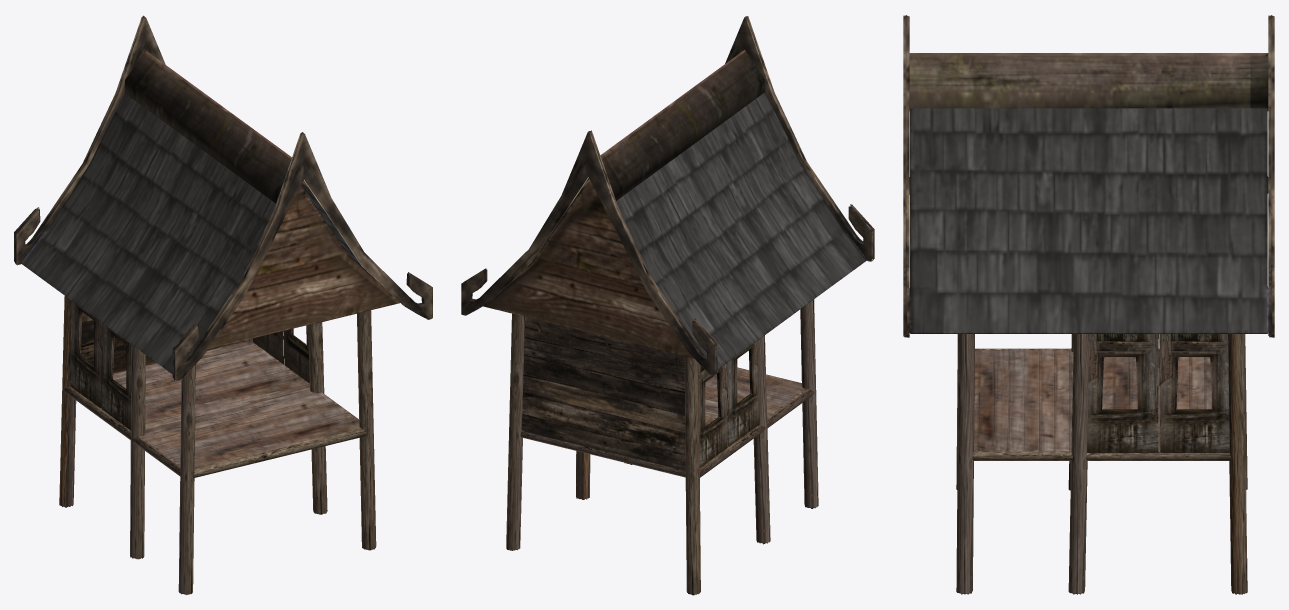
The model's file is court.fbx.
The picture shows the model from 3 angles, left to right: view 1: azimuth 30°, elevation 25°; view 2: azimuth 150°, elevation 25°; view 3: azimuth 270°, elevation 25°; orthographic projection. The views are drawn at different scales.
Parts seen in each view (by area): view 1: Plane.013, Cylinder.005, Cube.036, Cube.035, Cube.038, Cube.037, Cube.034, Plane.016, Cube.039, Cylinder.004, Cylinder.007, Plane.015; view 2: Plane.013, Plane.015, Cube.040, Cylinder.005, Cube.038, Cube.039, Plane.016, Cube.037, Cube.035, Cylinder.009, Cylinder.007; view 3: Plane.013, Cube.038, Cylinder.005, Plane.016, Cube.035, Cube.034, Cube.037, Cube.039, Cylinder.008.
Part boxes in pixels (x1,y1,x2,y2): Plane.013: (21,93,382,374); Cylinder.005: (59,296,376,594); Cube.036: (208,186,399,349); Cube.035: (140,383,360,468); Cube.038: (125,50,310,203); Cube.037: (172,132,432,381); Cube.034: (101,342,309,423); Plane.016: (70,301,309,430); Cube.039: (14,15,165,265); Cylinder.004: (193,428,366,477); Cylinder.007: (64,386,180,476); Plane.015: (80,312,242,373); Plane.013: (522,92,867,369); Plane.015: (521,317,685,470); Cube.040: (483,180,694,358); Cylinder.005: (506,299,818,595); Cube.038: (582,50,765,200); Cube.039: (461,130,717,375); Plane.016: (698,341,758,467); Cube.037: (725,16,874,261); Cube.035: (705,368,807,419); Cylinder.009: (520,431,685,477); Cylinder.007: (699,389,814,477); Plane.013: (909,108,1268,333); Cube.038: (909,53,1268,110); Cylinder.005: (956,334,1247,594); Plane.016: (1087,334,1229,452); Cube.035: (974,349,1073,451); Cube.034: (1102,349,1212,451); Cube.037: (903,15,909,337); Cube.039: (1268,15,1274,337); Cylinder.008: (972,450,1230,460).
Size of the model in its own units: 112 by 191 by 122.
